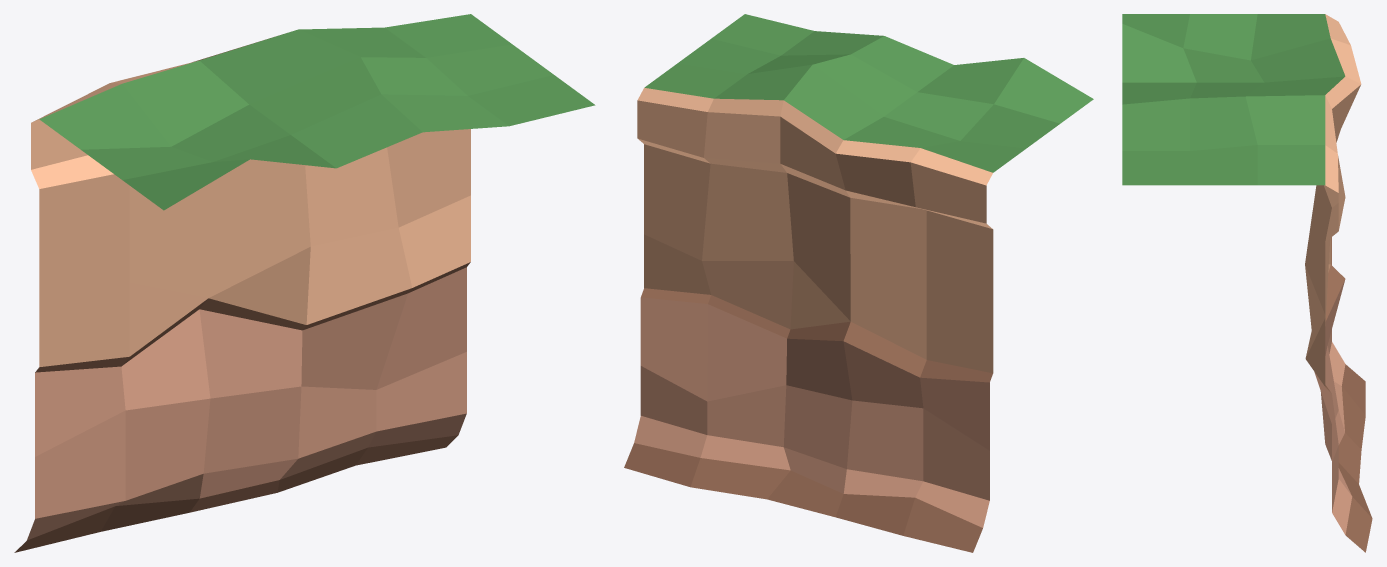
Rendered from CliffFace3.fbx.
The picture shows the model from 3 angles, left to right: view 1: azimuth 30°, elevation 25°; view 2: azimuth 150°, elevation 25°; view 3: azimuth 270°, elevation 25°; orthographic projection. The views are drawn at different scales.
Visible parts, largest first — view 1: Cliff3; view 2: Cliff3; view 3: Cliff3.
Part boxes in pixels (left/top/right/bottom): Cliff3: left=14, top=14, right=595, bottom=552; Cliff3: left=624, top=14, right=1093, bottom=552; Cliff3: left=1122, top=14, right=1372, bottom=552.
Bounding box in the file's own units: 19980 × 21374 × 12321.
